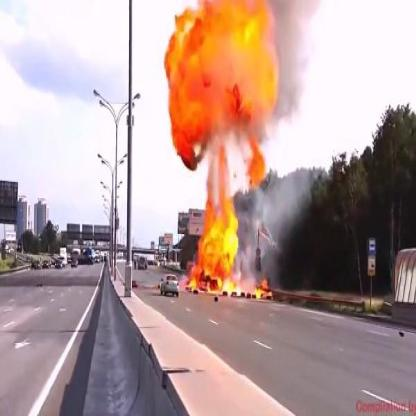fire: (162, 1, 280, 164), (185, 158, 243, 298), (250, 275, 272, 303)
